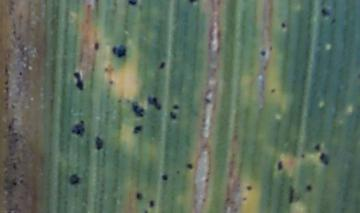tarspot: (71, 120, 86, 136), (147, 95, 162, 111), (130, 100, 144, 117), (73, 71, 84, 91), (112, 44, 127, 58), (287, 185, 295, 204), (320, 152, 330, 165), (95, 136, 103, 151), (69, 173, 79, 185), (320, 5, 330, 17), (92, 40, 101, 51), (134, 124, 142, 136), (168, 110, 177, 118), (277, 158, 283, 170), (148, 198, 155, 208), (161, 174, 169, 182), (280, 20, 287, 29), (136, 190, 142, 200), (172, 103, 180, 110), (158, 62, 166, 69), (186, 161, 193, 169), (245, 183, 252, 191), (330, 17, 337, 25), (260, 48, 266, 57), (315, 143, 321, 151), (240, 195, 248, 201), (17, 69, 23, 77), (270, 87, 276, 94), (12, 180, 18, 187), (129, 1, 137, 6), (176, 168, 181, 176), (300, 152, 305, 159), (307, 185, 312, 191), (103, 67, 109, 72), (108, 79, 113, 84), (143, 208, 148, 213), (189, 1, 197, 4)
